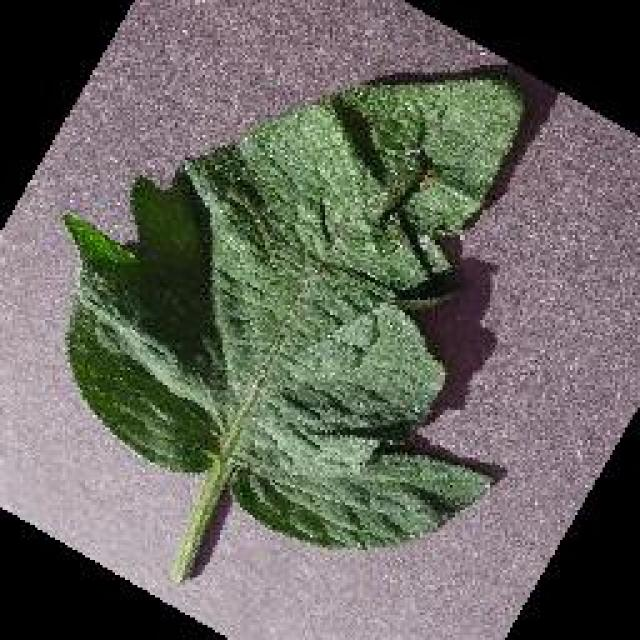Tomato___Target_Spot: (62, 70, 522, 580)
